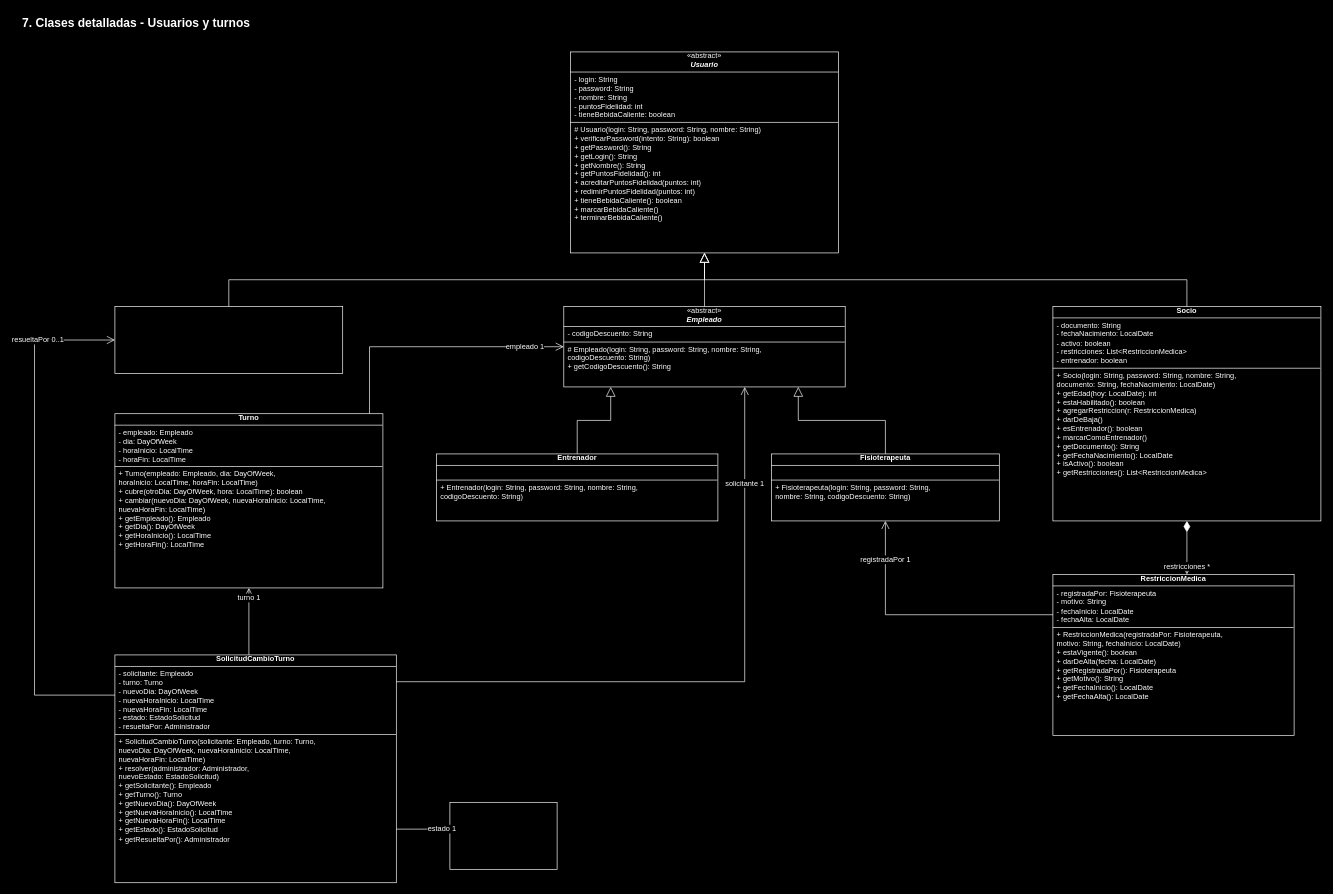
Some shapes in this 1333 by 894 pixel diagram are drawn without their labels. Here are the shapes that lost their labels. From the top down, the centre of each, then its label:
the point at 228,340: Administrador + Administrador(login: String, password: String, nombre: String)
the point at 503,835: «enumeration» EstadoSolicitud PENDIENTE APROBADA RECHAZADA
